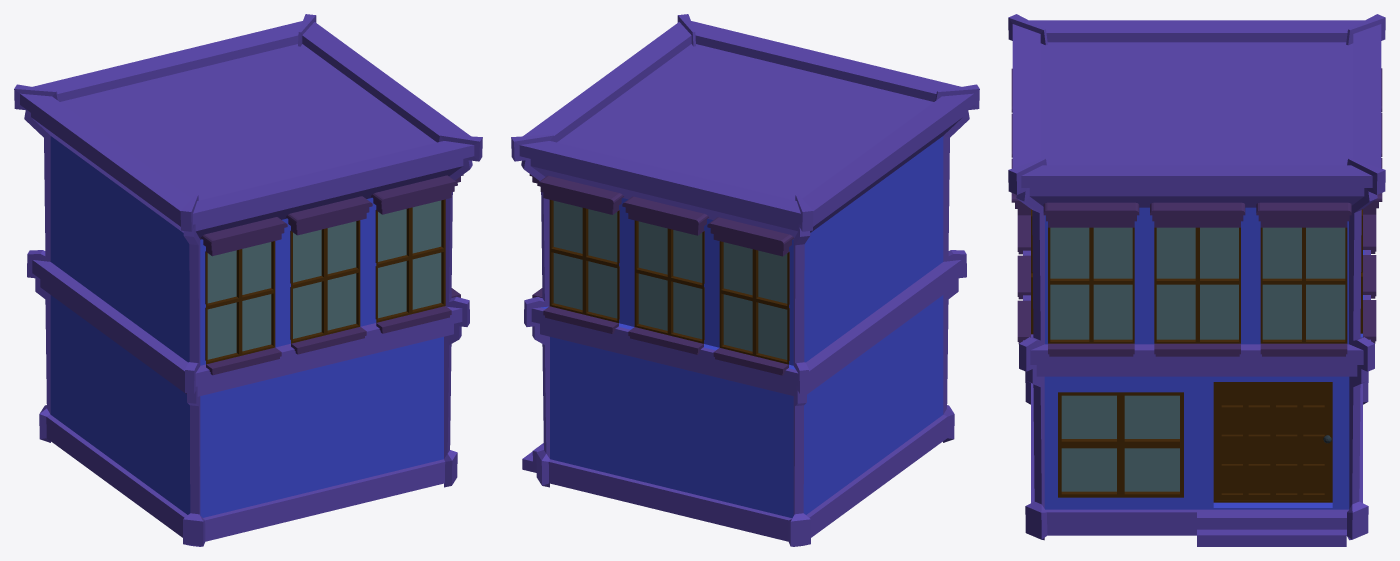
File: 2-Blue&Purple.fbx
3 renders of one model, left to right at view 1: azimuth 30°, elevation 25°; view 2: azimuth 150°, elevation 25°; view 3: azimuth 270°, elevation 25°, orthographic. The views are drawn at different scales.
Visible parts, largest first — view 1: Cube.012; view 2: Cube.012; view 3: Cube.012.
Boxes of the visible parts, box(x1,y1,x2,y2) form: Cube.012: box(14, 14, 482, 546); Cube.012: box(511, 14, 979, 546); Cube.012: box(1008, 14, 1385, 546).
Size of the model in its own units: 1421 by 1435 by 1574.
